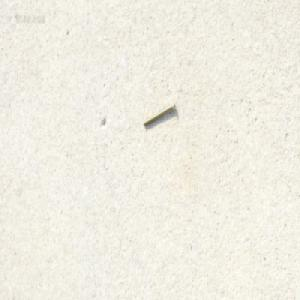Bolt: (142, 100, 175, 127)
